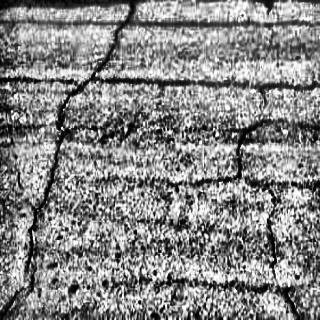crack: (202, 106, 320, 320), (1, 73, 87, 320), (92, 69, 320, 99), (149, 15, 316, 34), (98, 3, 146, 62), (5, 14, 92, 32)
